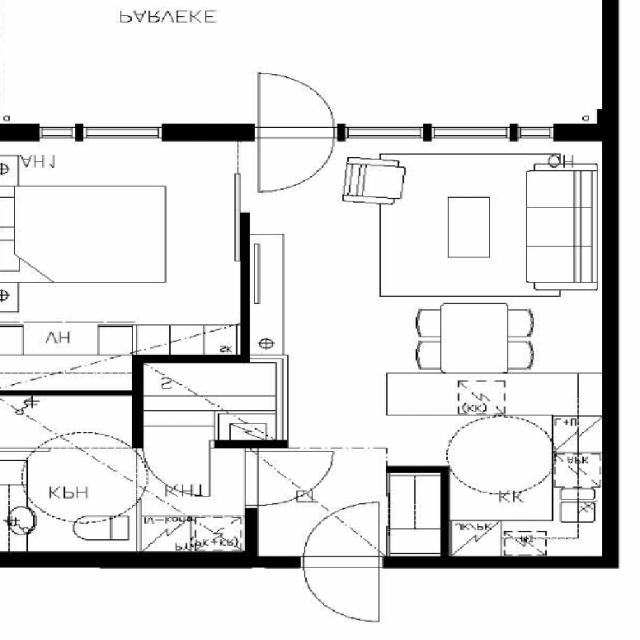door: (259, 69, 336, 141), (259, 125, 336, 196), (302, 556, 378, 622), (302, 502, 378, 568), (246, 450, 335, 505), (144, 440, 210, 496)
